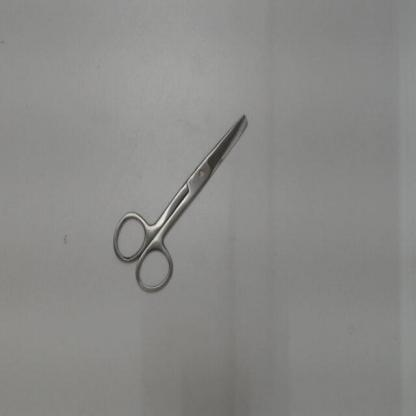Dressing Scissors: (107, 100, 255, 302)
